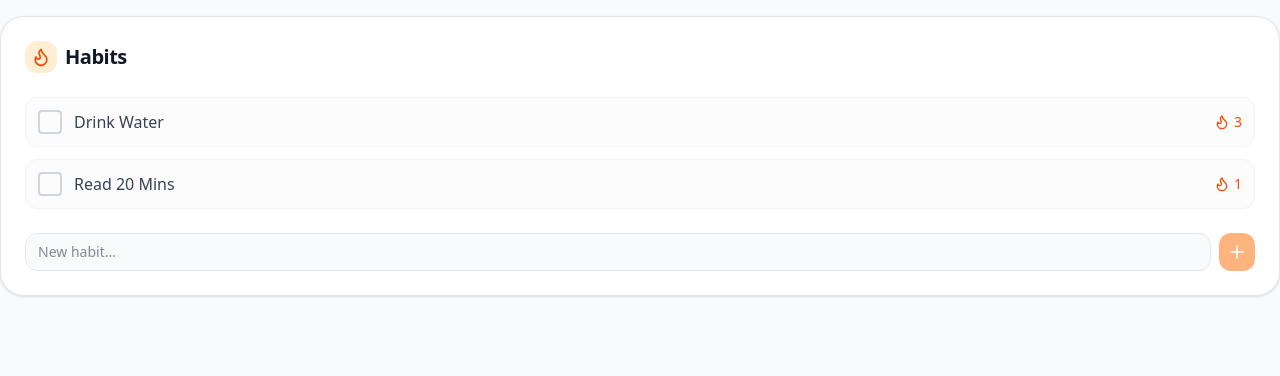
Test: HabitTracker › adds a new habit
In the field with placeholder "New habit...": (618, 252) [25,233,1211,271], type "Code for 1 hour"
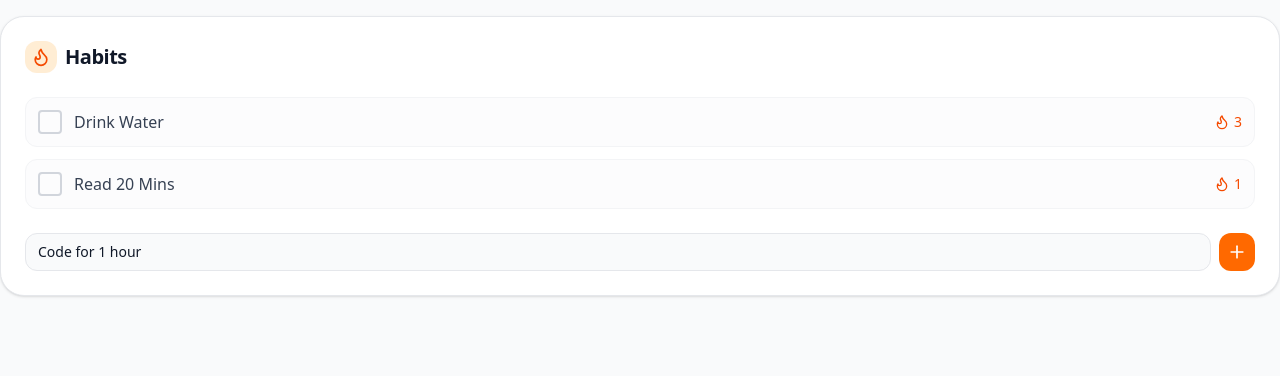
Click the button named "Add Habit": (1237, 252) [1219,233,1255,271]
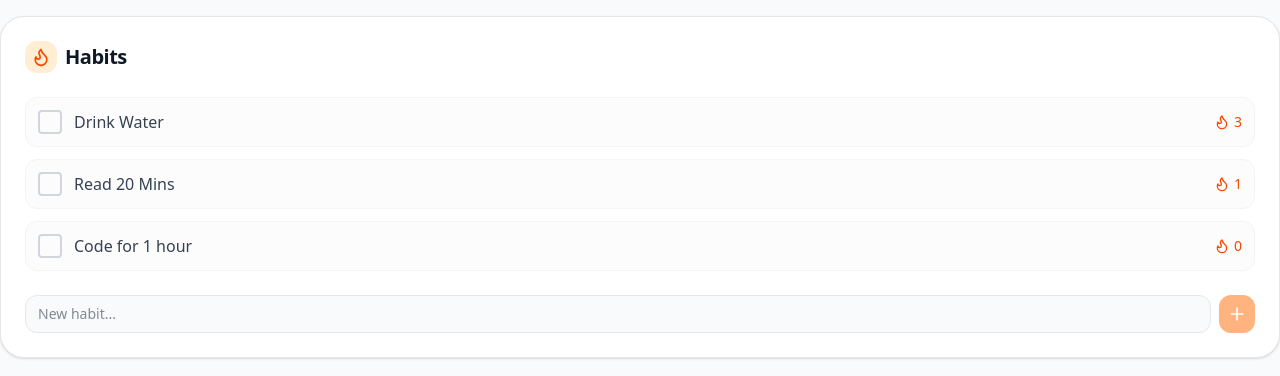
Expected: the text "Code for 1 hour" is shown, [74,234,192,258]
